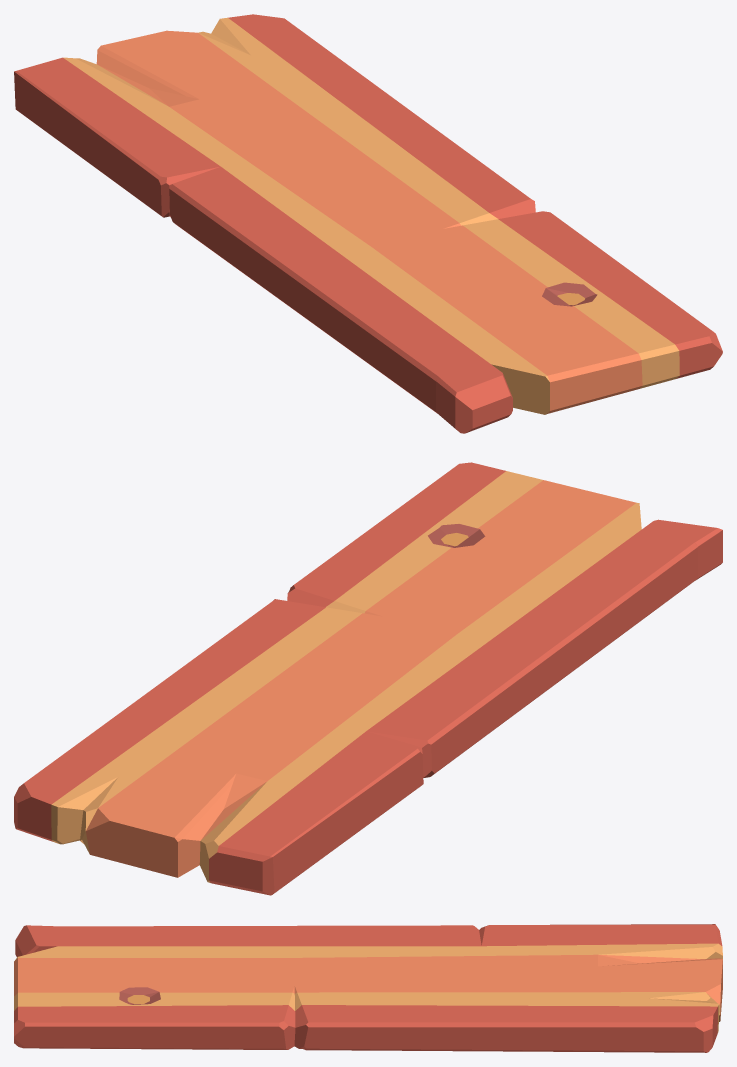
File: Plank.fbx
3 views of the same model, one above another, from view 1: azimuth 30°, elevation 25°; view 2: azimuth 150°, elevation 25°; view 3: azimuth 270°, elevation 25° (orthographic). The views are drawn at different scales.
Visible parts, largest first — view 1: Cube.001; view 2: Cube.001; view 3: Cube.001.
Part boxes in pixels (x1,y1,x2,y2): Cube.001: (14,14,722,433); Cube.001: (14,462,722,895); Cube.001: (14,924,722,1052).
Size of the model in its own units: 100 by 14.07 by 300.
